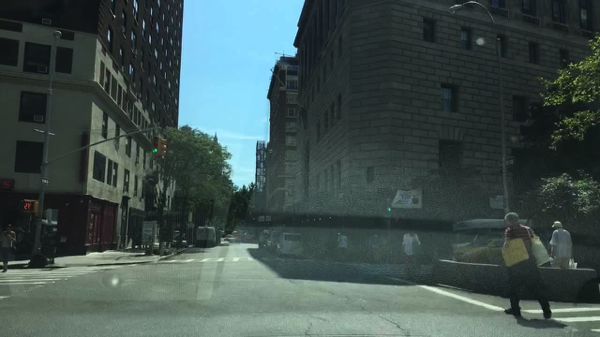car: (453, 228, 508, 256), (461, 240, 511, 262), (277, 233, 302, 256), (196, 227, 215, 248), (267, 229, 278, 251), (257, 231, 269, 249), (168, 238, 187, 249), (234, 231, 244, 241), (215, 228, 220, 245)
person: (501, 212, 552, 321), (550, 221, 576, 276), (404, 228, 420, 280), (0, 222, 16, 272), (337, 232, 350, 260)
traffic light: (151, 135, 162, 156), (20, 199, 36, 212), (162, 139, 167, 156)
traffic sign: (495, 155, 517, 169), (39, 177, 52, 187)
